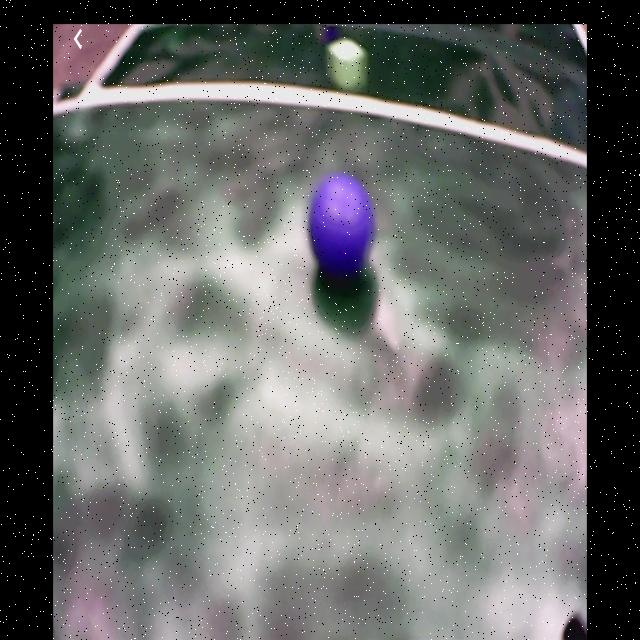ball: (309, 173, 373, 271)
